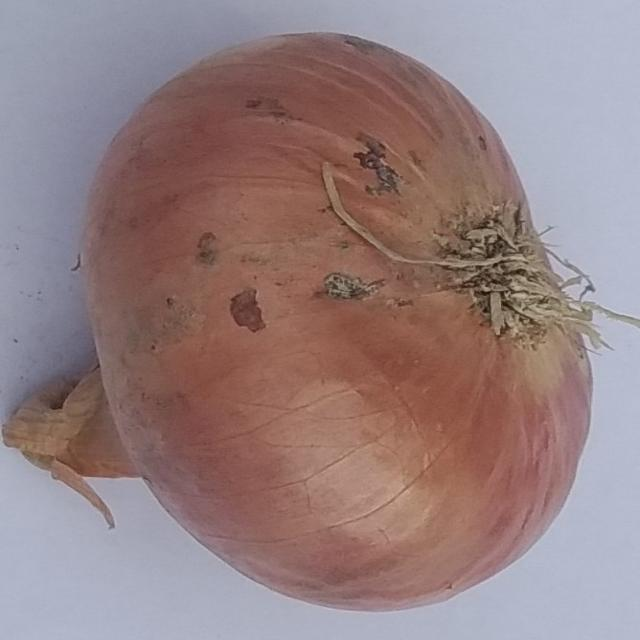onion: (0, 27, 629, 615)
